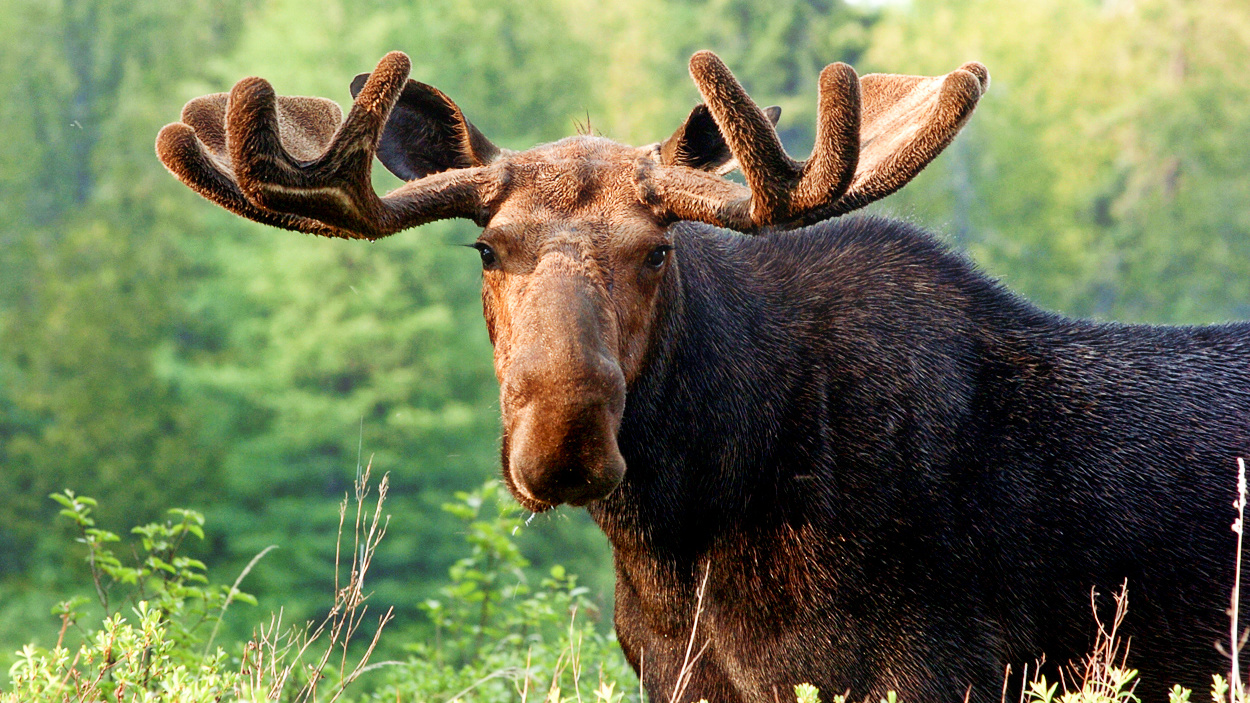moose: (148, 31, 1003, 527)
